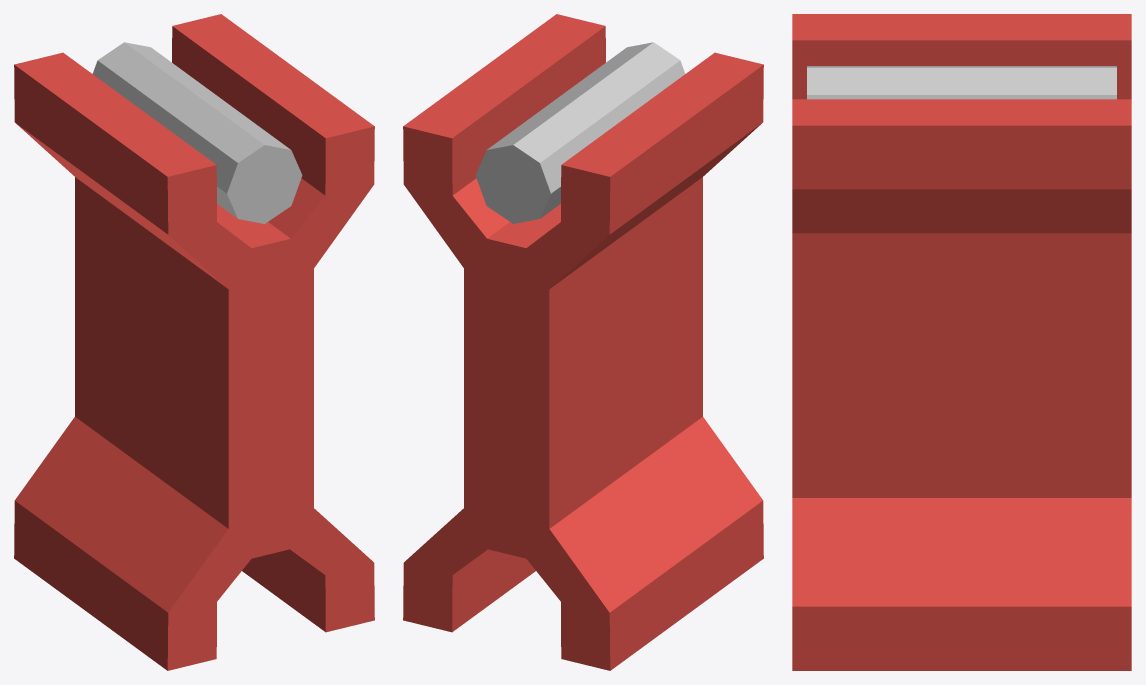
The model's file is snuver.glb.
The picture shows the model from 3 angles, left to right: view 1: azimuth 30°, elevation 25°; view 2: azimuth 150°, elevation 25°; view 3: azimuth 270°, elevation 25°; orthographic projection. The views are drawn at different scales.
Parts seen in each view (by area): view 1: Snuver; view 2: Snuver; view 3: Snuver.
Boxes of the visible parts, bbox=[...] form: Snuver: bbox=[14, 14, 374, 670]; Snuver: bbox=[403, 14, 763, 670]; Snuver: bbox=[792, 14, 1131, 670].
Size of the model in its own units: 0.3274 by 0.7488 by 0.4203.
